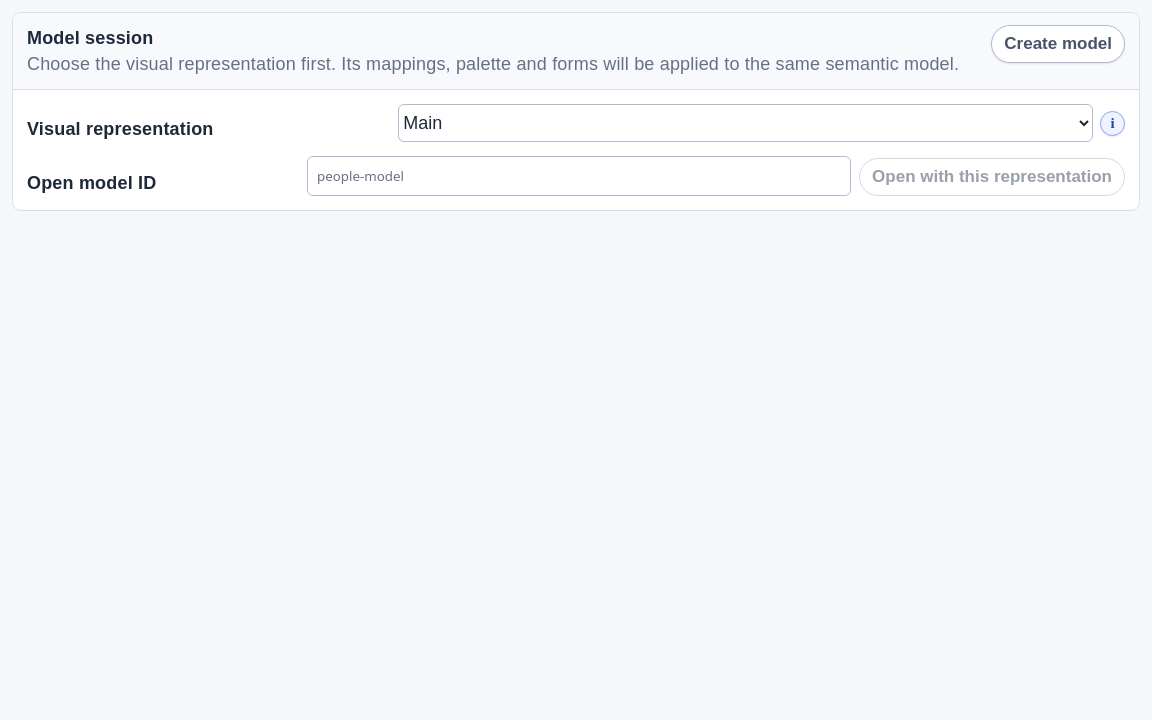
neutral editor runtime session › starts a persisted neutral session from the compiled plan
The image size is (1152, 720).
Step 1. Click the button "Create model" → coordinates (1058, 44), box x1=991 y1=25 x2=1125 y2=63
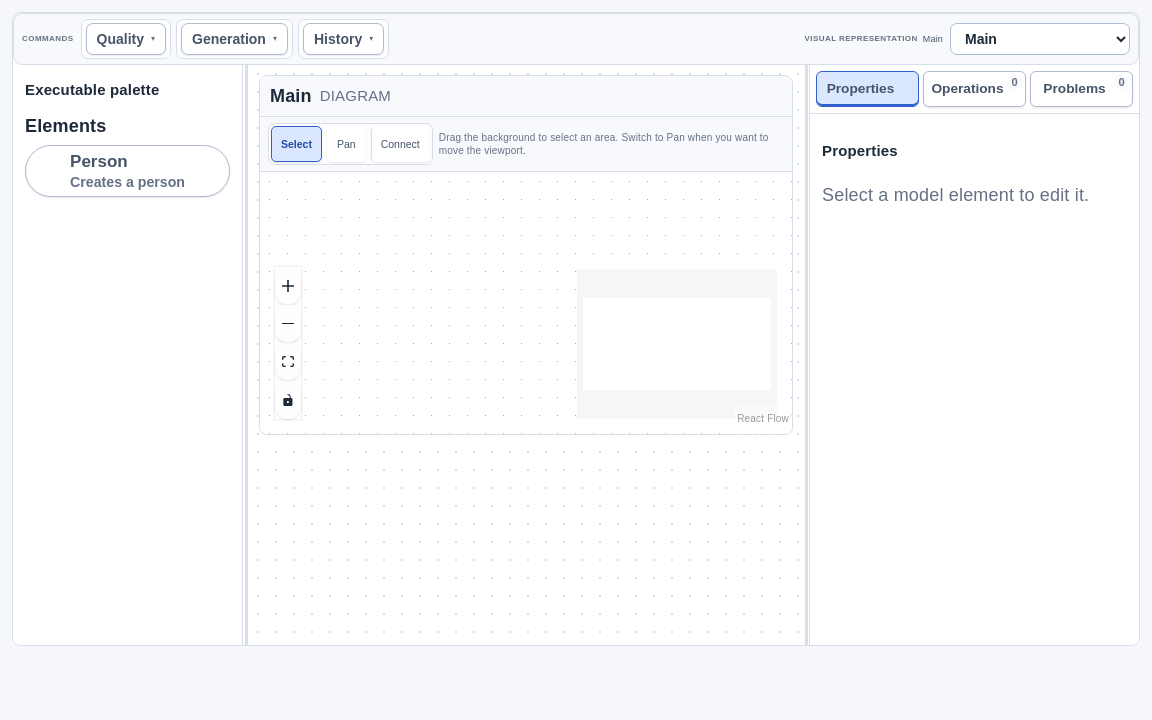
Expected: the element named "Model editor session" is shown
